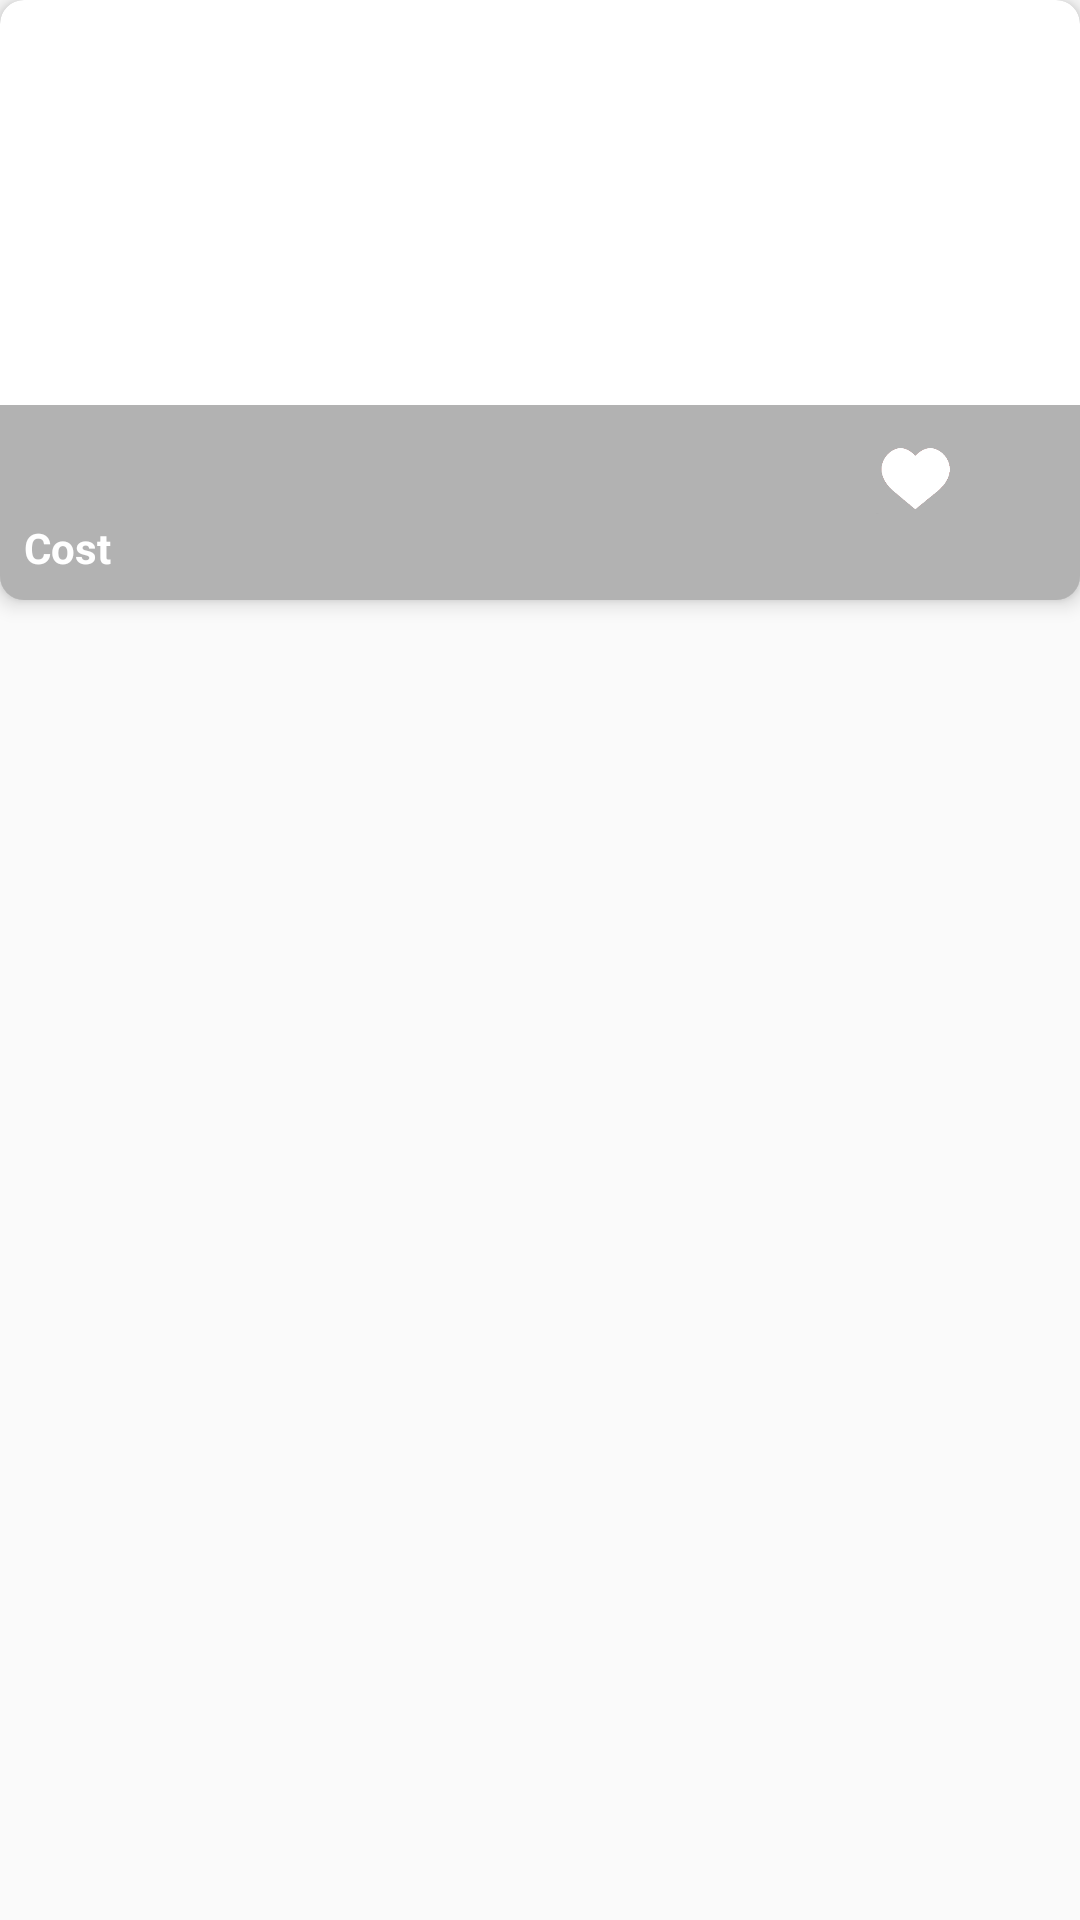

Named icons in this screenshot (1080×1920) and their bounding boxes, [x1, y1, x2, y2]:
dil: [881, 448, 950, 509]
